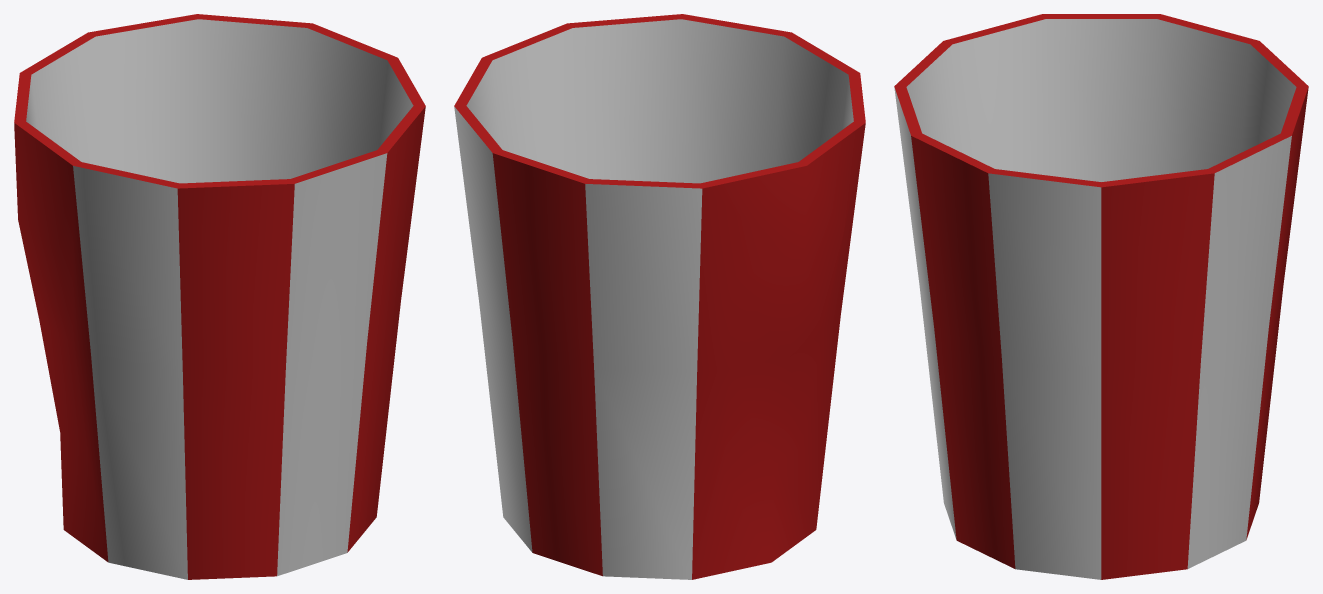
The model's file is bucket.fbx.
3 views of the same model, side by side, from view 1: azimuth 30°, elevation 25°; view 2: azimuth 150°, elevation 25°; view 3: azimuth 270°, elevation 25° (orthographic).
Visible parts, largest first — view 1: Tube; view 2: Tube; view 3: Tube.
Part boxes in pixels (x1,y1,x2,y2): Tube: (14, 14, 425, 579); Tube: (454, 14, 865, 579); Tube: (894, 14, 1308, 579).
Size of the model in its own units: 43.8 by 48.69 by 44.25.
